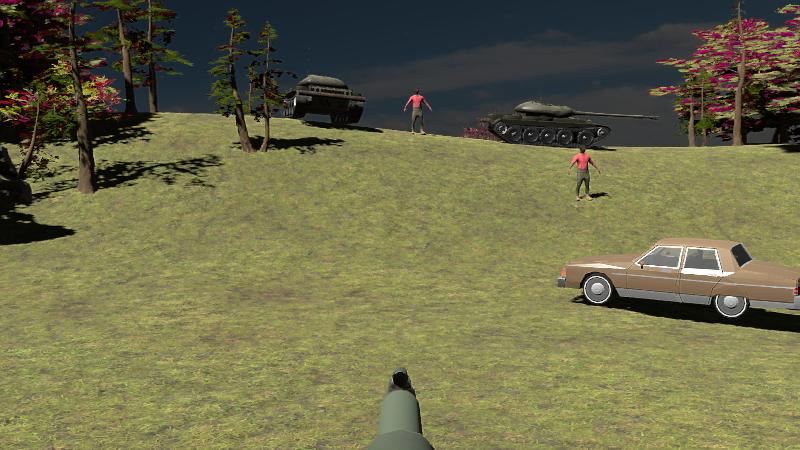Human: (569, 143, 601, 202), (403, 87, 432, 137)
Tank: (481, 100, 659, 150), (284, 73, 365, 126)
car: (556, 237, 800, 327)
